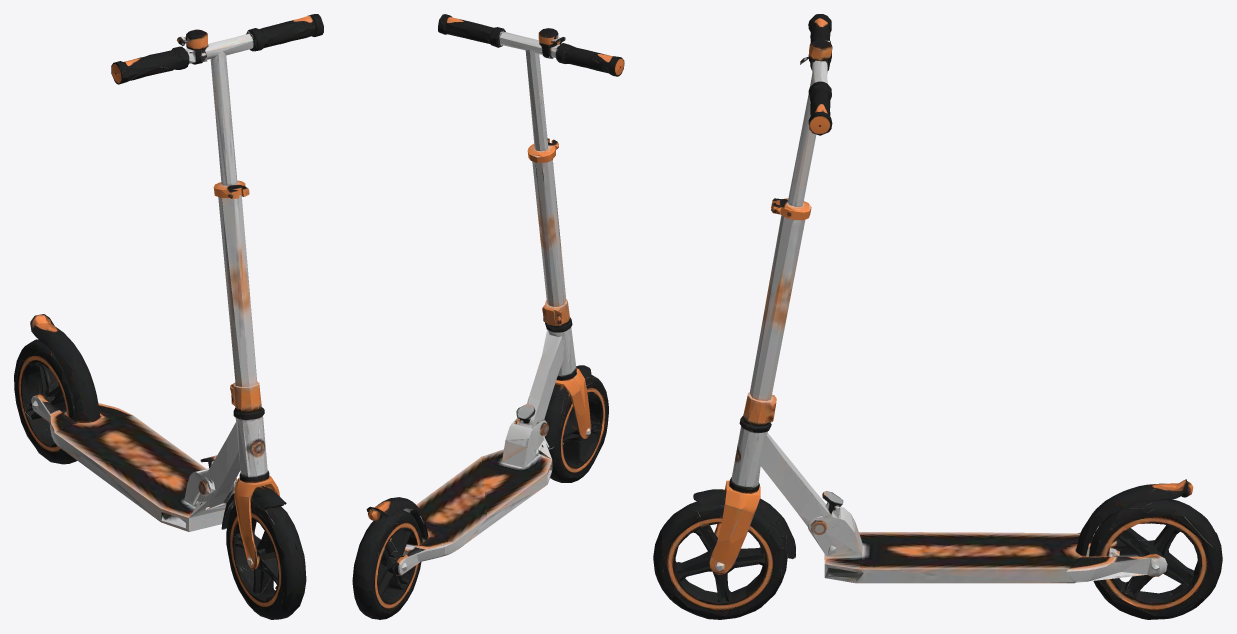
The model's file is scooter_pro.glb.
3 views of the same model, side by side, from view 1: azimuth 30°, elevation 25°; view 2: azimuth 150°, elevation 25°; view 3: azimuth 270°, elevation 25° (orthographic). The views are drawn at different scales.
Parts seen in each view (by area): view 1: Mesh_0; view 2: Mesh_0; view 3: Mesh_0.
Boxes of the visible parts, left/top/right/bottom form: Mesh_0: left=14, top=14, right=323, bottom=619; Mesh_0: left=352, top=14, right=624, bottom=619; Mesh_0: left=653, top=14, right=1222, bottom=619.
Bounding box in the file's own units: 0.4058 × 1.05 × 0.9591.
1 material, 1 textured.
